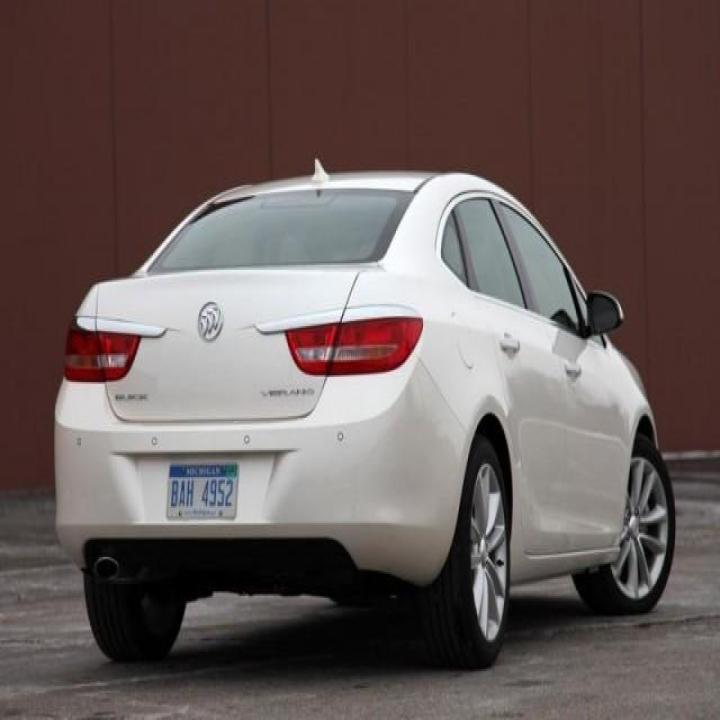car: (53, 158, 676, 671)
plat: (166, 463, 240, 520)
